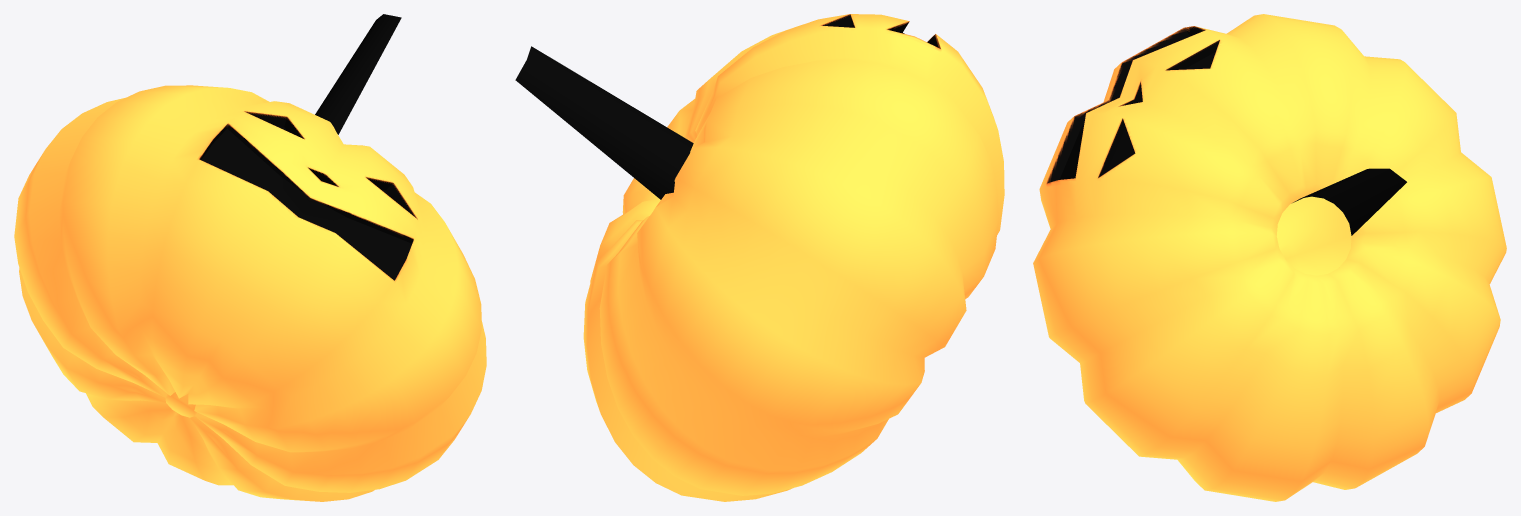
The model's file is pumpkin-string-bulb.glb.
The picture shows the model from 3 angles, left to right: view 1: azimuth 30°, elevation 25°; view 2: azimuth 150°, elevation 25°; view 3: azimuth 270°, elevation 25°; orthographic projection. The views are drawn at different scales.
Parts seen in each view (by area): view 1: Object_2, Object_3; view 2: Object_2, Object_3; view 3: Object_2, Object_3.
Part boxes in pixels (bbox=[...]): Object_2: bbox=[14, 85, 486, 501]; Object_3: bbox=[165, 14, 417, 417]; Object_2: bbox=[583, 14, 1004, 501]; Object_3: bbox=[515, 14, 940, 199]; Object_2: bbox=[1033, 14, 1506, 501]; Object_3: bbox=[1046, 26, 1406, 235].
Bounding box in the file's own units: 6.35 × 6.62 × 7.
Materials: 1 (1 with a texture image).
